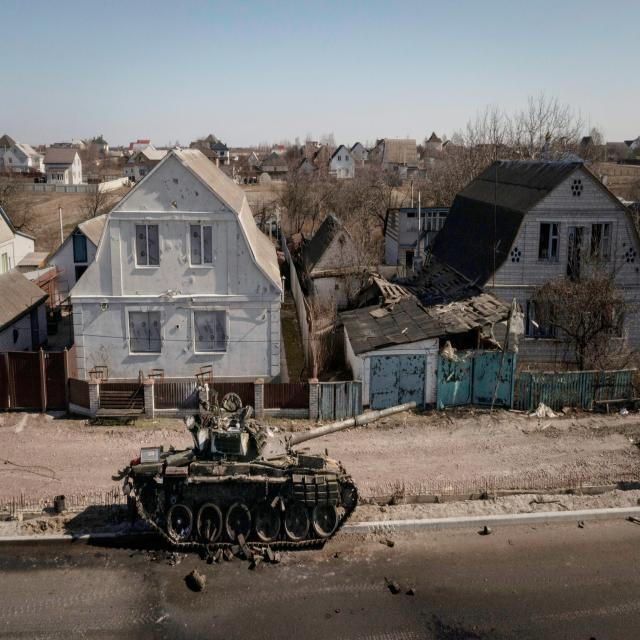Tanks: (122, 390, 417, 554)
